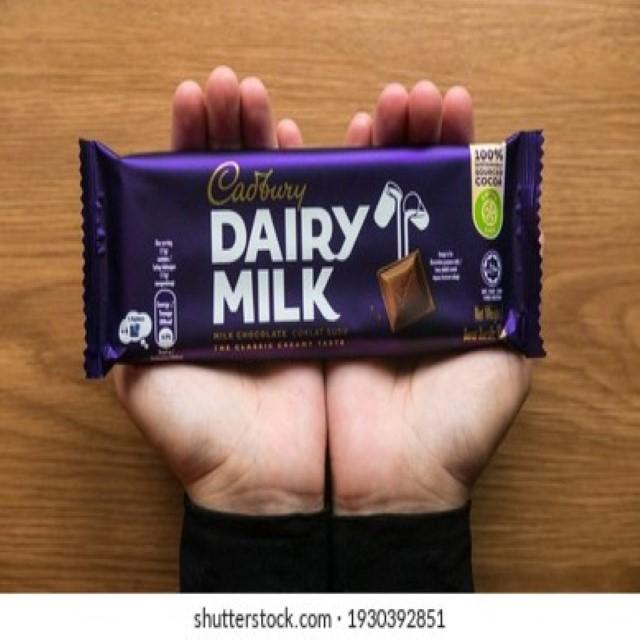cadbury_chocolate: (85, 138, 542, 367)
